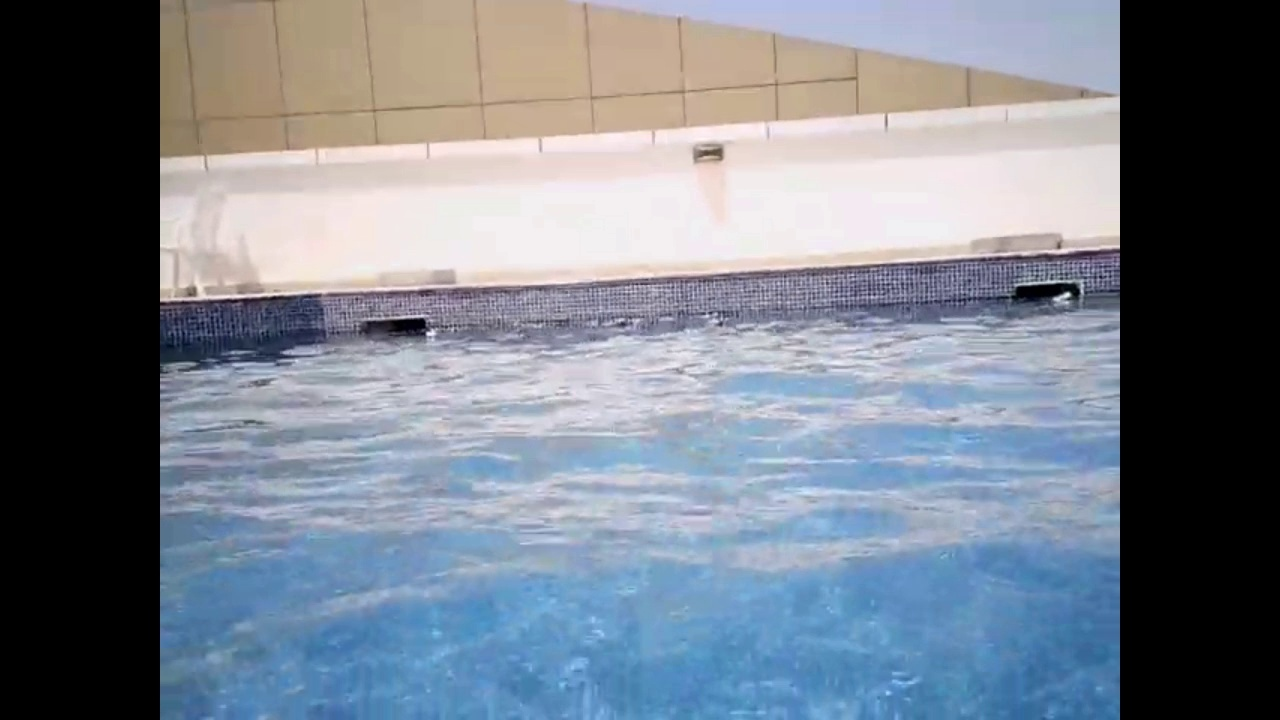debris: (1050, 290, 1075, 307), (422, 327, 438, 338)
